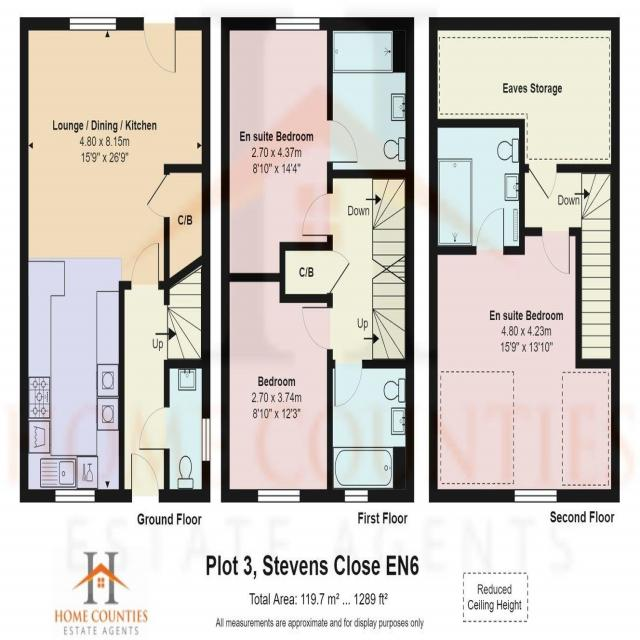DOOR: (142, 16, 177, 74), (130, 452, 160, 503), (301, 191, 333, 238), (138, 406, 171, 451), (326, 119, 358, 165), (130, 241, 160, 290), (475, 207, 505, 255), (302, 305, 333, 351), (541, 227, 570, 275), (334, 359, 363, 407)
ROOM: (19, 16, 210, 503), (428, 207, 620, 503), (221, 16, 359, 282), (221, 273, 334, 503)
WINDOW: (68, 16, 118, 32), (274, 15, 321, 32), (257, 488, 301, 504), (514, 488, 558, 503), (55, 488, 95, 503), (201, 417, 211, 462), (344, 488, 369, 503)
